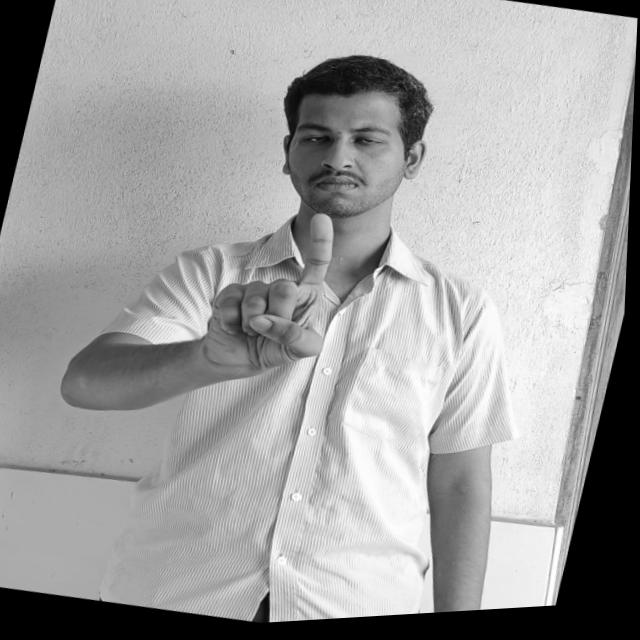Question: (196, 195, 363, 399)
